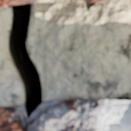brick: (0, 0, 36, 6), (84, 0, 100, 1)
broken_brick: (0, 97, 130, 130)
crack: (0, 2, 45, 128)
